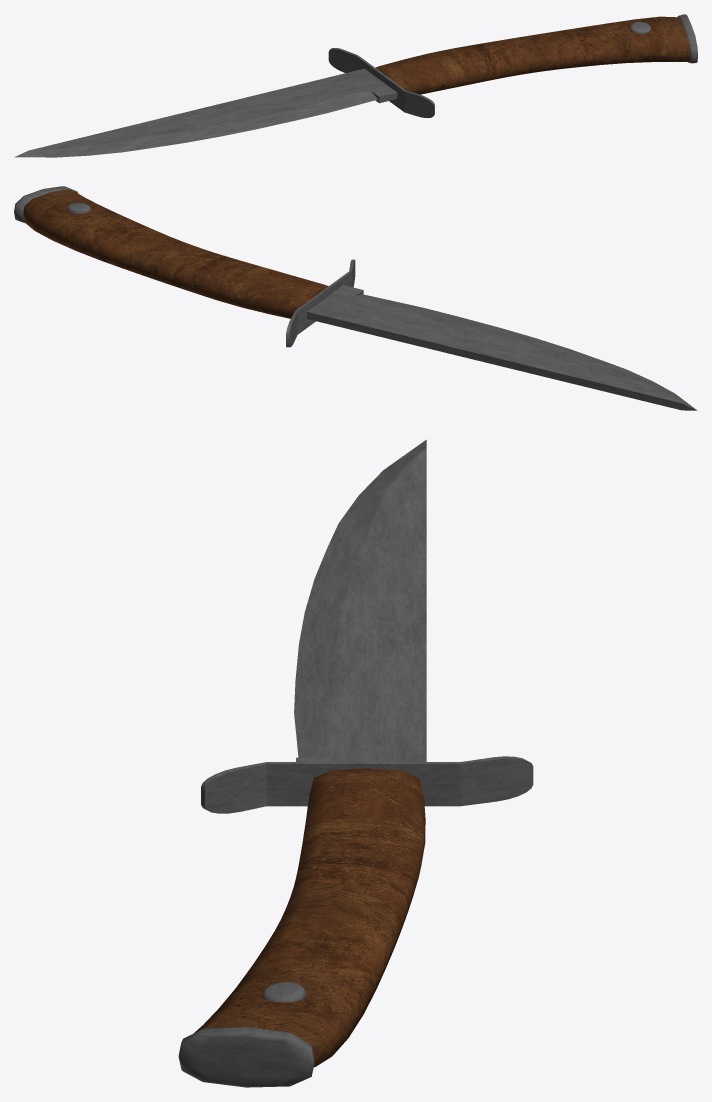
File: cuchillo.fbx
3 renders of one model, top to bottom at view 1: azimuth 30°, elevation 25°; view 2: azimuth 150°, elevation 25°; view 3: azimuth 270°, elevation 25°, orthographic. The views are drawn at different scales.
Visible parts, largest first — view 1: Plane.002; view 2: Plane.002; view 3: Plane.002.
Part boxes in pixels (<box>): Plane.002: <box>14,14,697,157</box>; Plane.002: <box>14,186,697,410</box>; Plane.002: <box>178,439,533,1087</box>.
Size of the model in its own units: 22.78 by 1.1 by 5.45.
